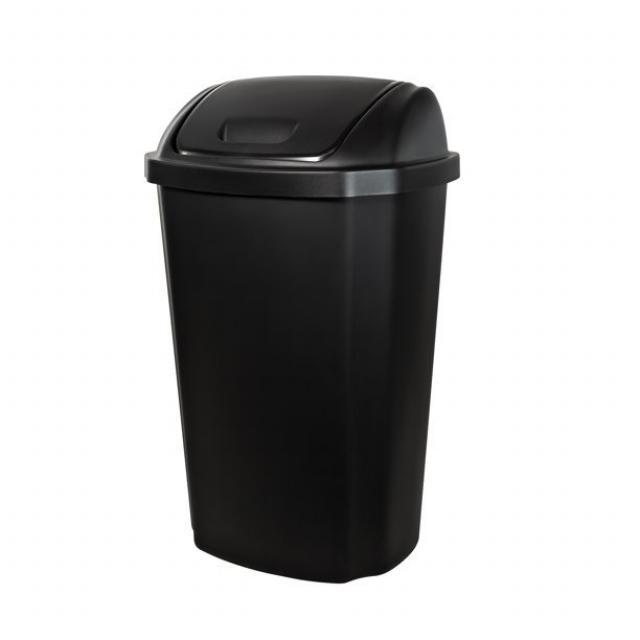Dumpster: (136, 68, 468, 588)
